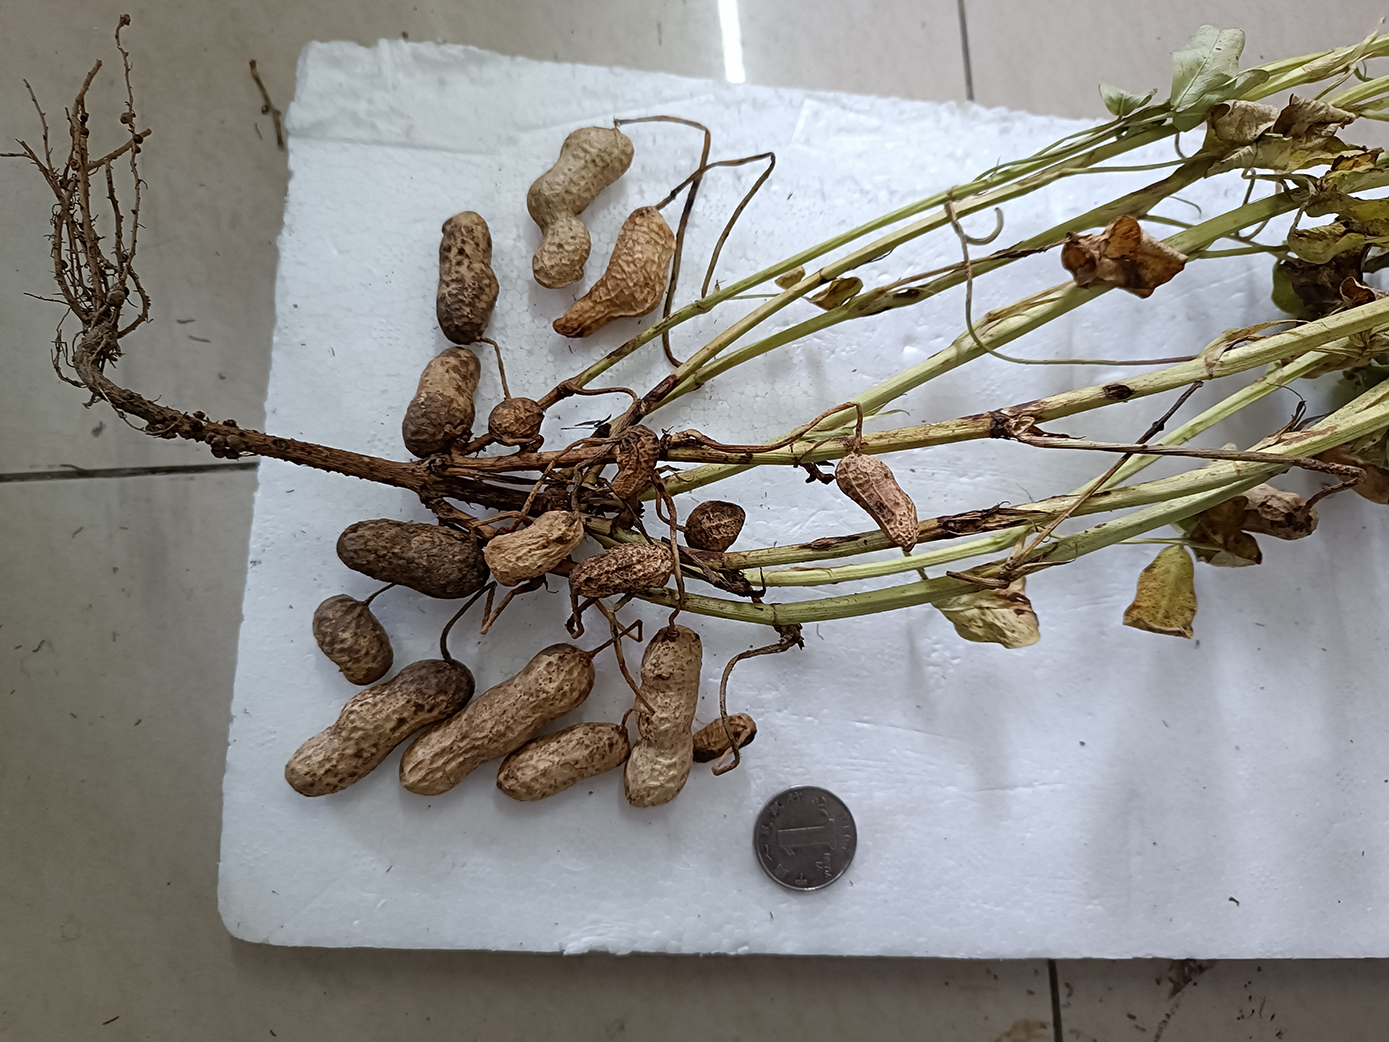h: (400, 644, 595, 796), (283, 661, 478, 800), (528, 126, 636, 290), (551, 206, 675, 339), (625, 626, 701, 810), (498, 723, 628, 804), (436, 212, 499, 346), (836, 451, 919, 551), (485, 511, 584, 587), (314, 591, 393, 685), (572, 542, 675, 600), (613, 427, 659, 502), (693, 716, 760, 763), (489, 400, 544, 445)
l: (336, 519, 490, 600), (685, 502, 746, 549)
